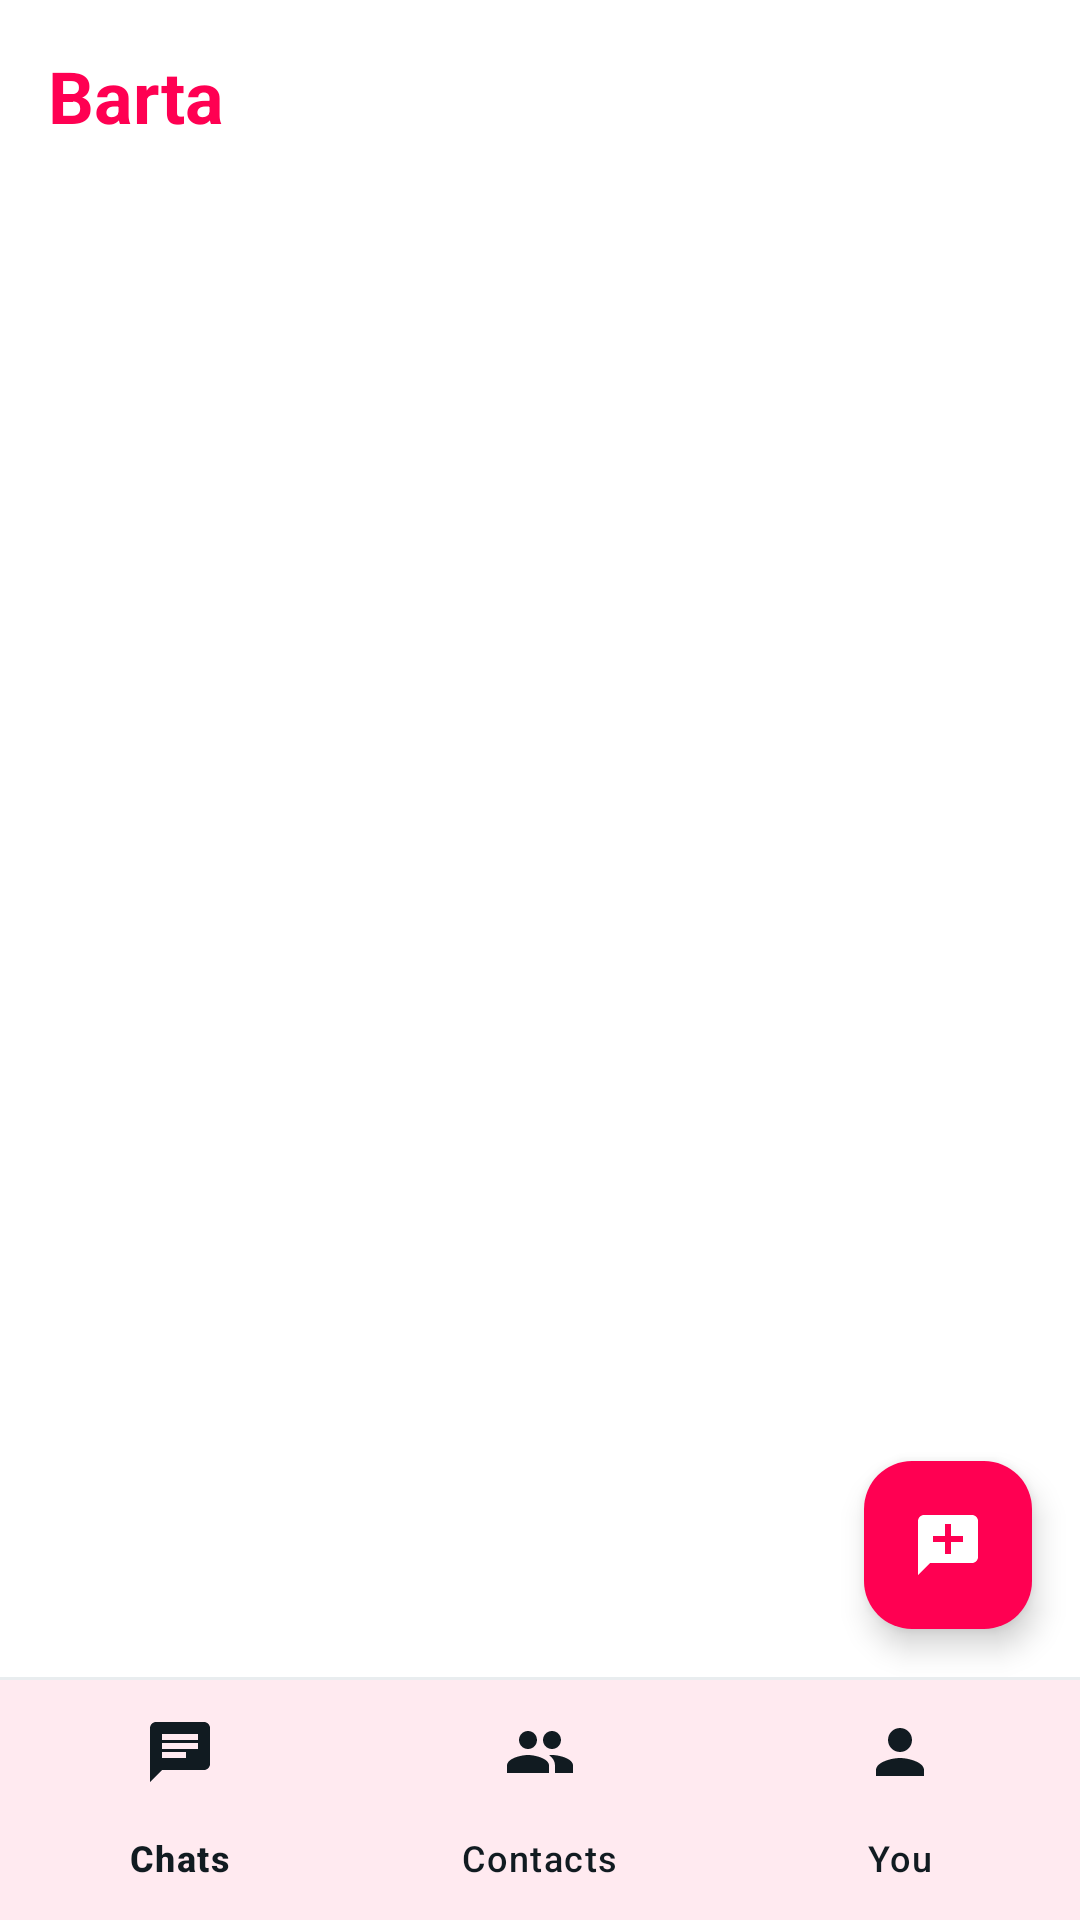

Icon click points for this 1080×1920 phone screenshot, format (x=x, y=y):
New chat: (x=948, y=1545)
